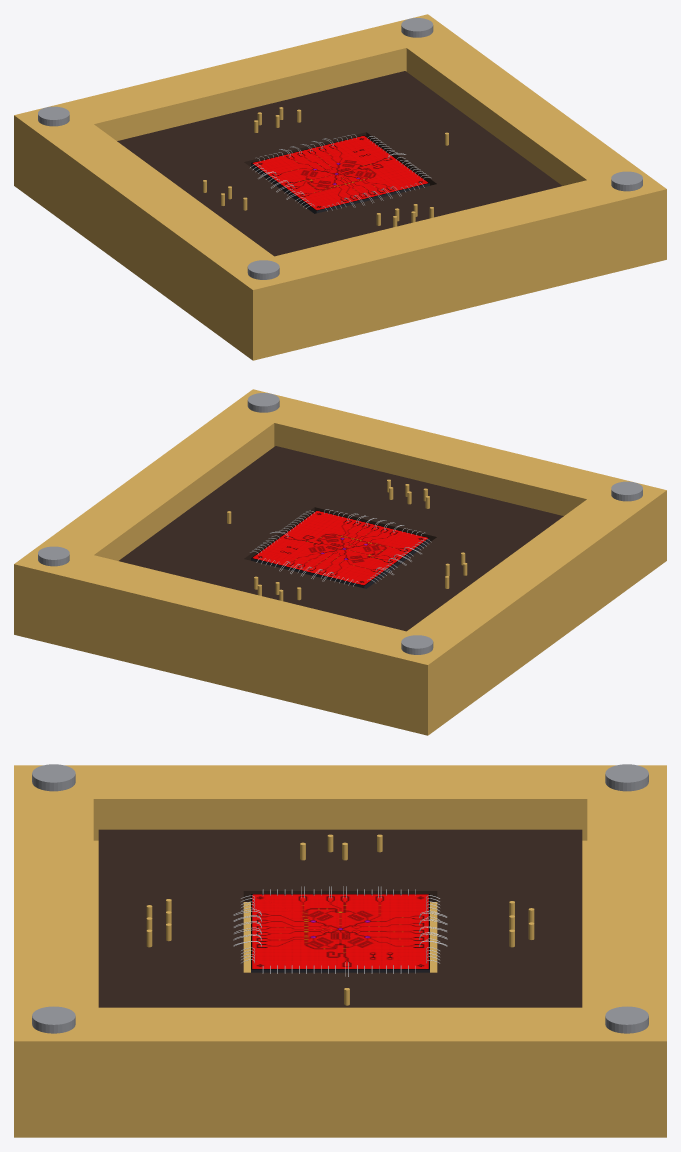
File: chip.glb
The picture shows the model from 3 angles, top to bottom: view 1: azimuth 30°, elevation 25°; view 2: azimuth 150°, elevation 25°; view 3: azimuth 270°, elevation 25°; orthographic projection. The views are drawn at different scales.
Visible parts, largest first — view 1: holder, board, chip-top, screws, bonds, contacts, die; view 2: holder, board, chip-top, screws, bonds, contacts, die; view 3: holder, board, chip-top, screws, bonds, contacts, die.
Boxes of the visible parts, x1=… form: holder: x1=14, y1=14, x2=666, y2=360; board: x1=117, y1=71, x2=561, y2=256; chip-top: x1=251, y1=135, x2=429, y2=210; screws: x1=38, y1=18, x2=642, y2=279; bonds: x1=250, y1=134, x2=431, y2=211; contacts: x1=203, y1=107, x2=448, y2=227; die: x1=251, y1=163, x2=429, y2=213; holder: x1=14, y1=389, x2=666, y2=735; board: x1=119, y1=446, x2=563, y2=631; chip-top: x1=251, y1=510, x2=429, y2=585; screws: x1=38, y1=393, x2=642, y2=654; bonds: x1=250, y1=509, x2=431, y2=586; contacts: x1=227, y1=479, x2=467, y2=601; die: x1=251, y1=538, x2=429, y2=588; holder: x1=14, y1=765, x2=666, y2=1137; board: x1=98, y1=829, x2=582, y2=1007; chip-top: x1=251, y1=894, x2=429, y2=969; screws: x1=32, y1=764, x2=648, y2=1033; bonds: x1=233, y1=886, x2=447, y2=976; contacts: x1=146, y1=834, x2=534, y2=1005; die: x1=251, y1=969, x2=429, y2=972.
Size of the model in its own units: 27 by 4.8 by 27.
7 materials, 2 textured.
